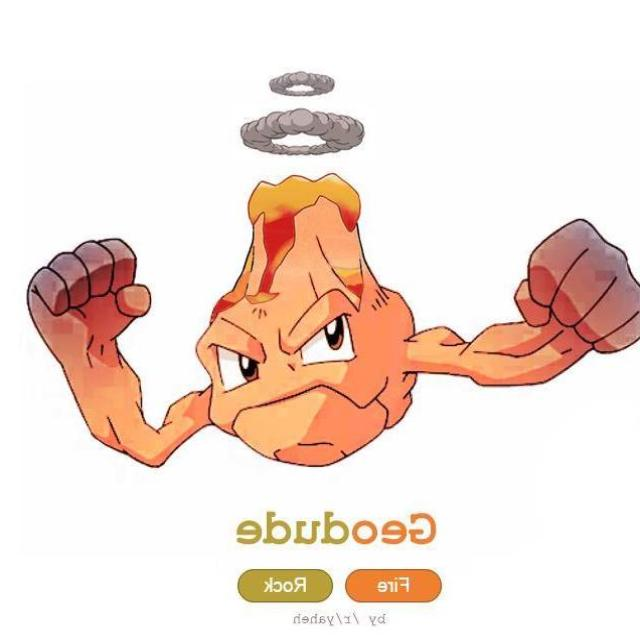Geodude: (0, 221, 627, 480)
